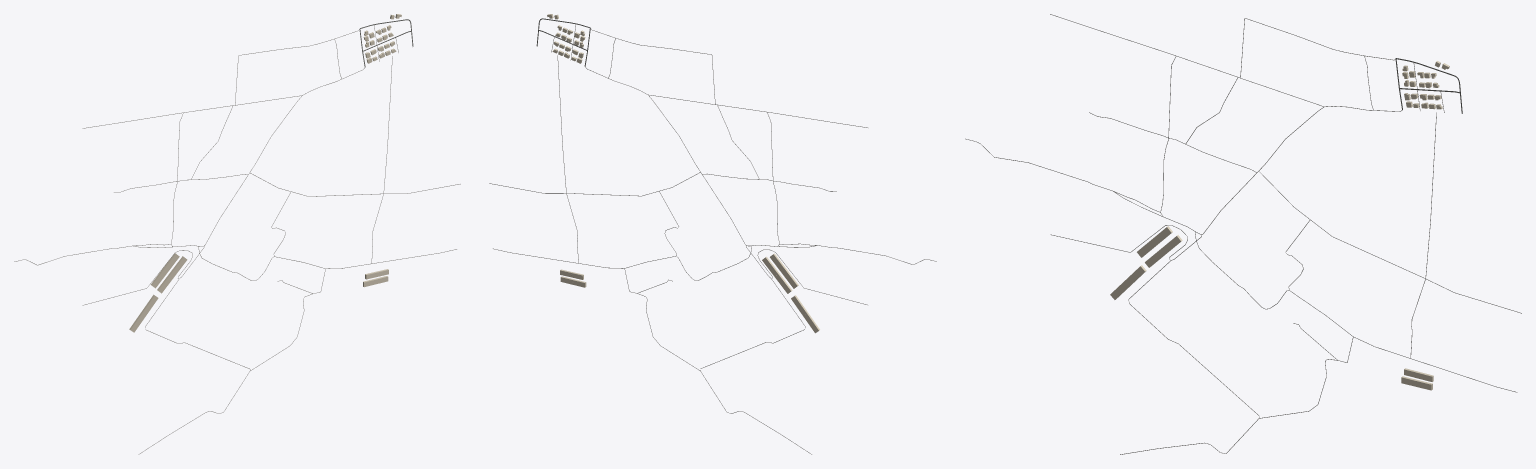
The model's file is historic-palestine-07_28_3490_3223.glb.
3 renders of one model, left to right at view 1: azimuth 30°, elevation 25°; view 2: azimuth 150°, elevation 25°; view 3: azimuth 330°, elevation 25°, orthographic. The views are drawn at different scales.
Bounding box in the file's own units: 1635 × 1320 × 8.7.
